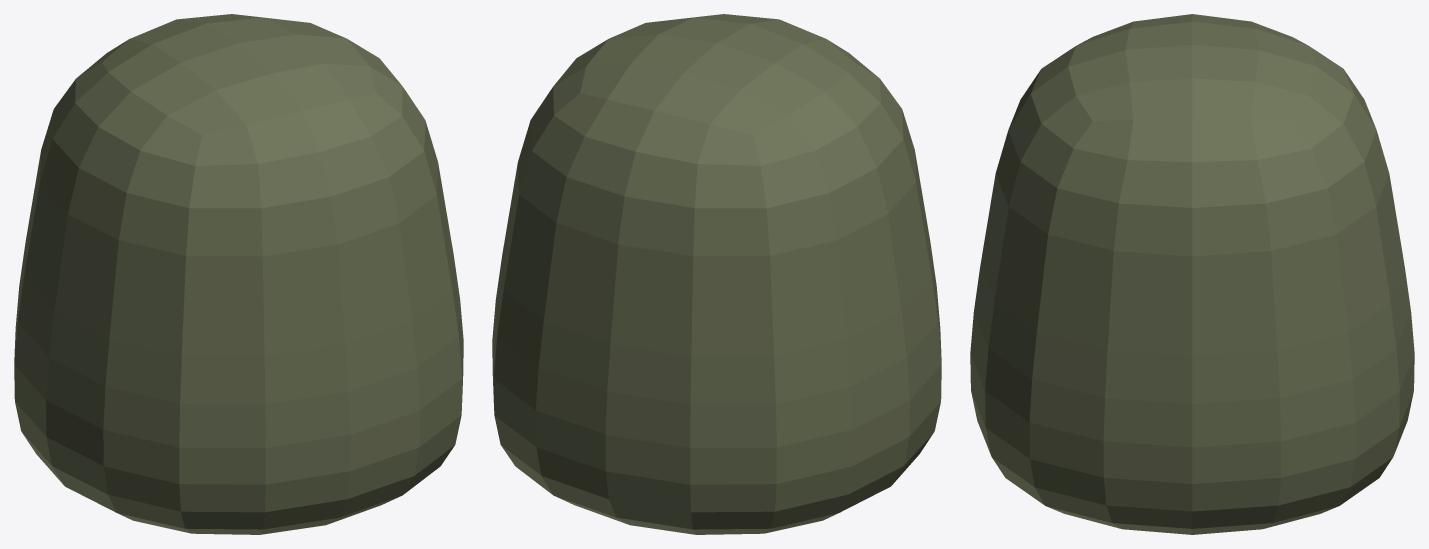
File: lettuce_crop.glb
3 renders of one model, left to right at view 1: azimuth 30°, elevation 25°; view 2: azimuth 150°, elevation 25°; view 3: azimuth 270°, elevation 25°, orthographic.
Parts seen in each view (by area): view 1: Lettuce_Crop; view 2: Lettuce_Crop; view 3: Lettuce_Crop.
Boxes of the visible parts, left/top/right/bottom form: Lettuce_Crop: left=14, top=14, right=463, bottom=534; Lettuce_Crop: left=492, top=14, right=941, bottom=534; Lettuce_Crop: left=970, top=14, right=1414, bottom=534.
Size of the model in its own units: 0.3754 by 0.4086 by 0.3754.
